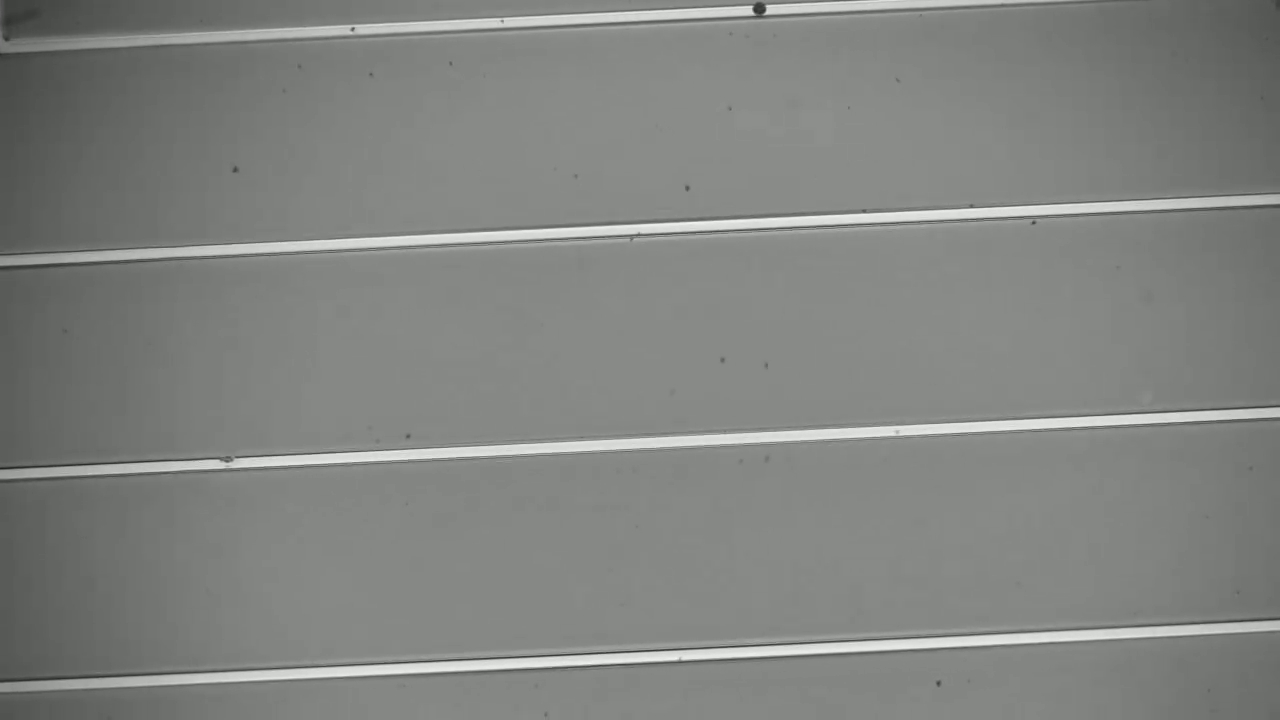stains_enbedded: (743, 1, 777, 27), (215, 445, 242, 477)
